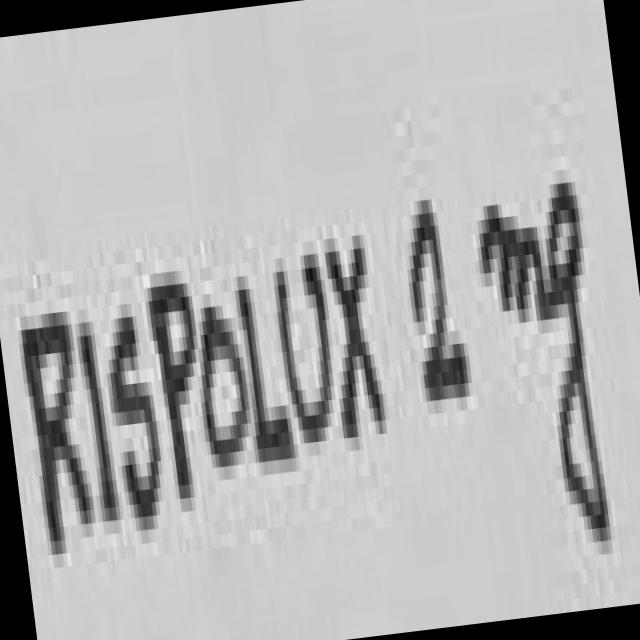2: (413, 199, 469, 394)
I: (82, 336, 116, 514)
L: (240, 290, 294, 461)
O: (204, 307, 248, 466)
R: (23, 324, 91, 548)
S: (112, 317, 160, 530)
U: (278, 254, 333, 442)
X: (330, 249, 386, 436)
g: (551, 182, 610, 541)
m: (483, 205, 549, 322)
p: (151, 283, 195, 492)
